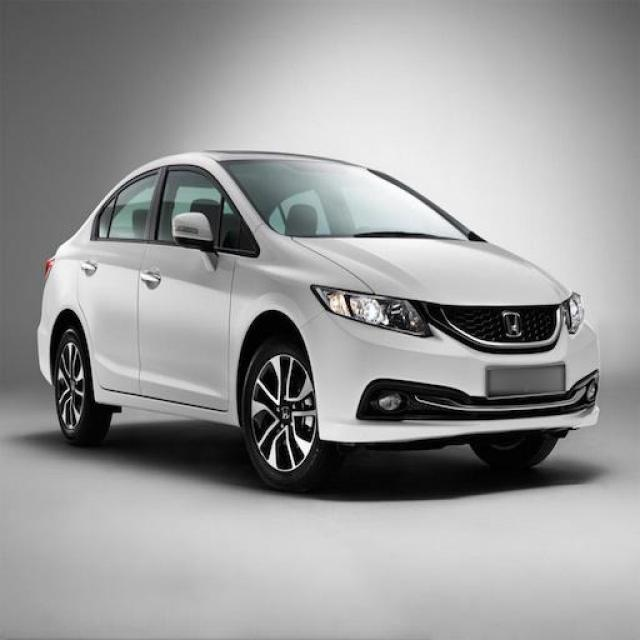back_right_door: (78, 166, 164, 398)
front_bumper: (299, 299, 601, 443)
front_glass: (217, 160, 488, 243)
front_left_light: (566, 291, 587, 336)
front_right_door: (138, 165, 242, 411)
front_right_light: (311, 284, 432, 337)
hood: (294, 237, 574, 306)
right_mirror: (171, 212, 218, 253)
wheel: (54, 328, 318, 488)
